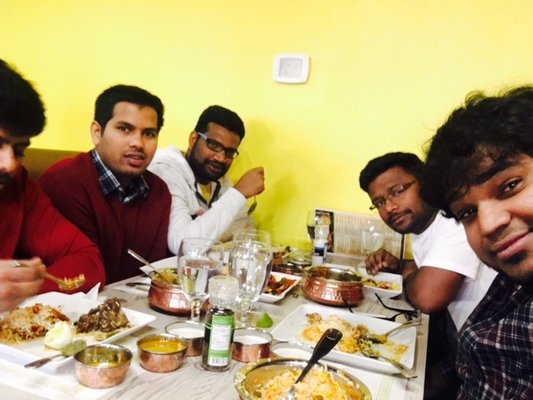sushi: (234, 357, 358, 400), (73, 343, 133, 389), (301, 264, 364, 306), (137, 333, 188, 373)
